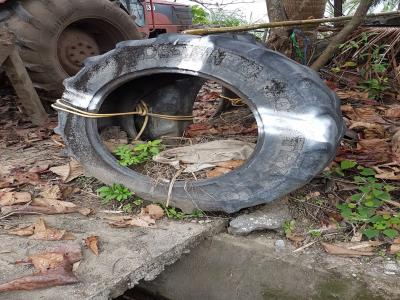tire: (49, 29, 346, 216), (1, 1, 140, 107)
